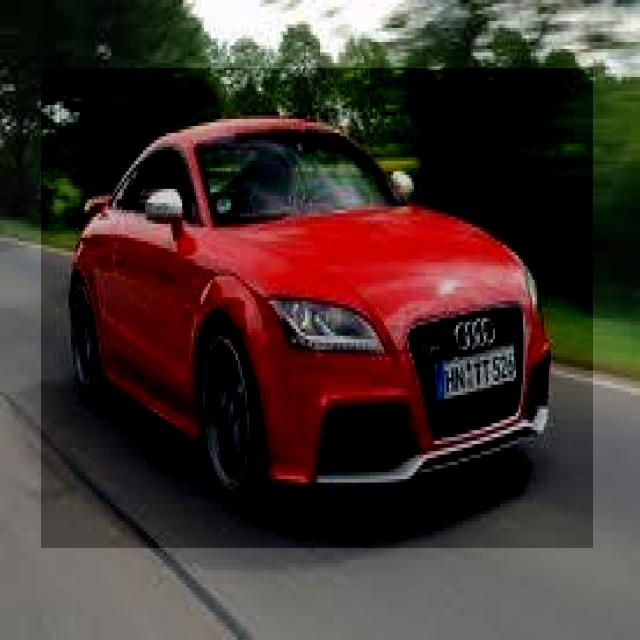Car: (41, 68, 594, 548)
